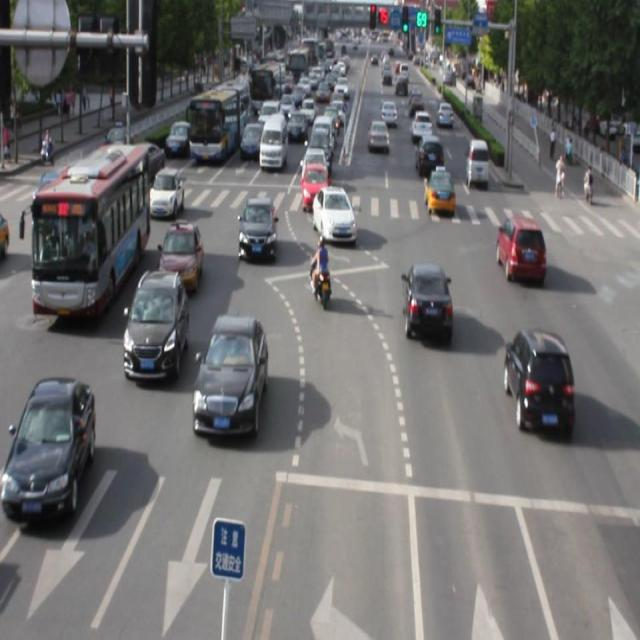car: (1, 374, 95, 522), (192, 315, 268, 433), (122, 269, 190, 382), (506, 326, 570, 431), (403, 262, 450, 339), (496, 212, 541, 283), (157, 223, 202, 289), (312, 183, 356, 244), (239, 198, 276, 262), (151, 164, 183, 220)
van: (33, 145, 148, 312)
